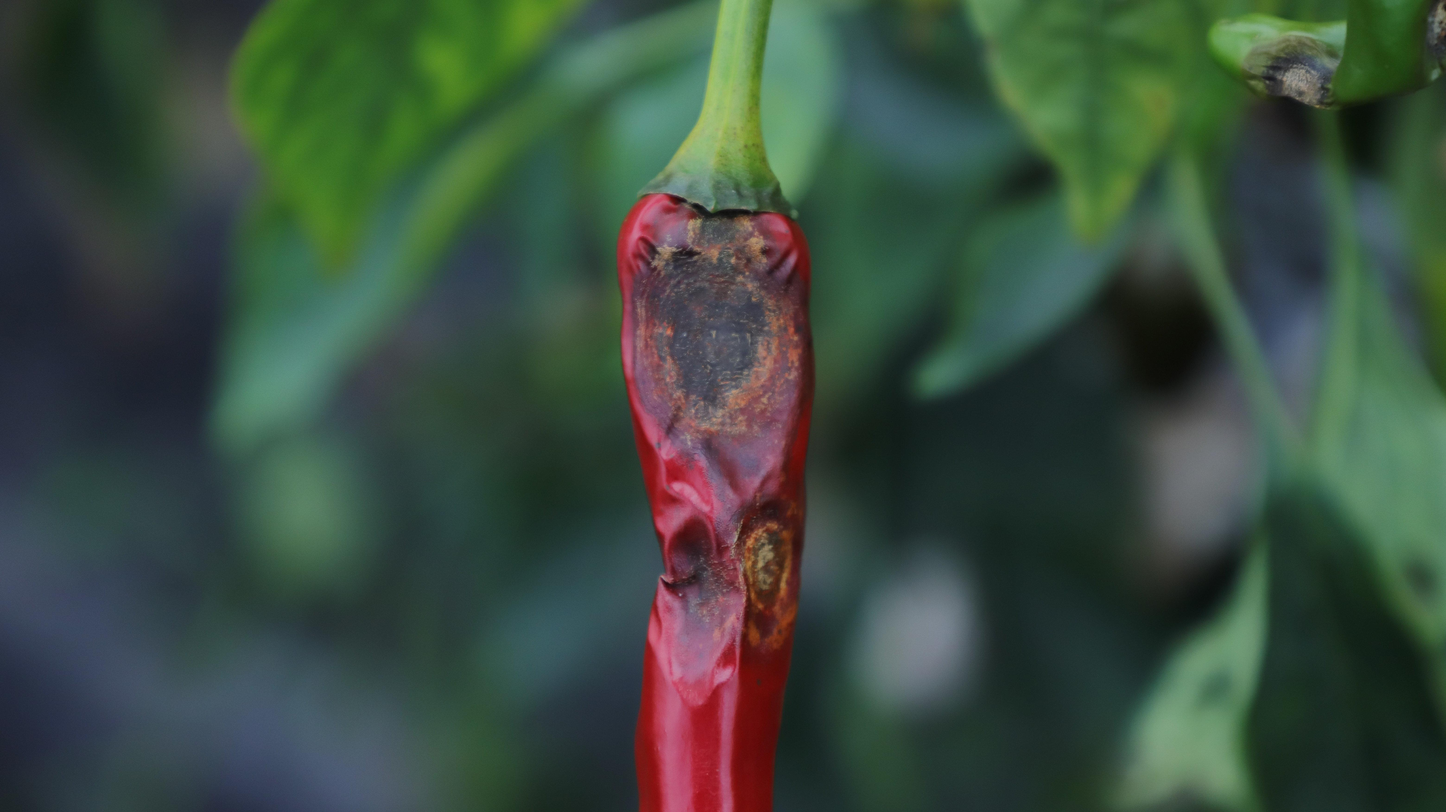Busuk Buah Antraknosa: (613, 156, 817, 808)
